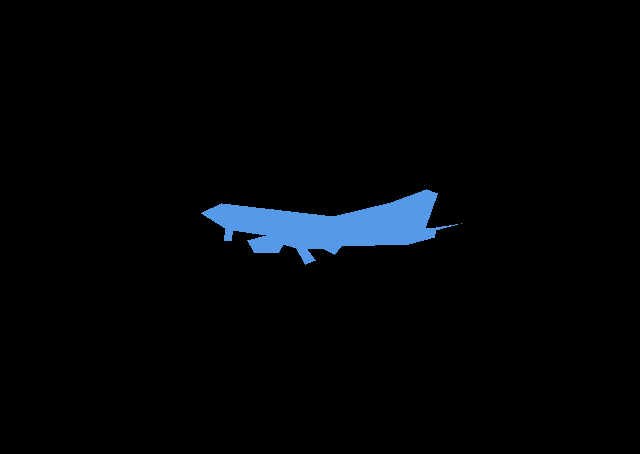Airplane: (201, 189, 461, 264)
